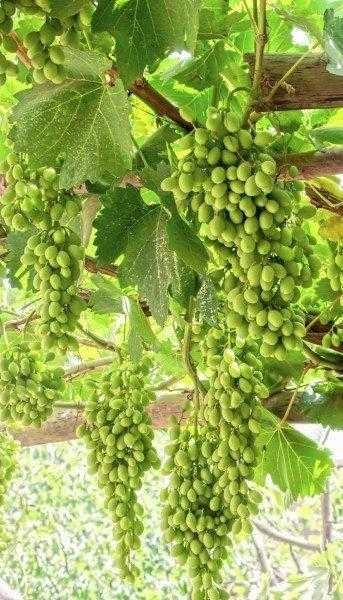Grape Unripe: (169, 98, 300, 356), (198, 347, 289, 543), (79, 362, 158, 560), (17, 152, 90, 360), (155, 427, 240, 600), (0, 348, 66, 443)
